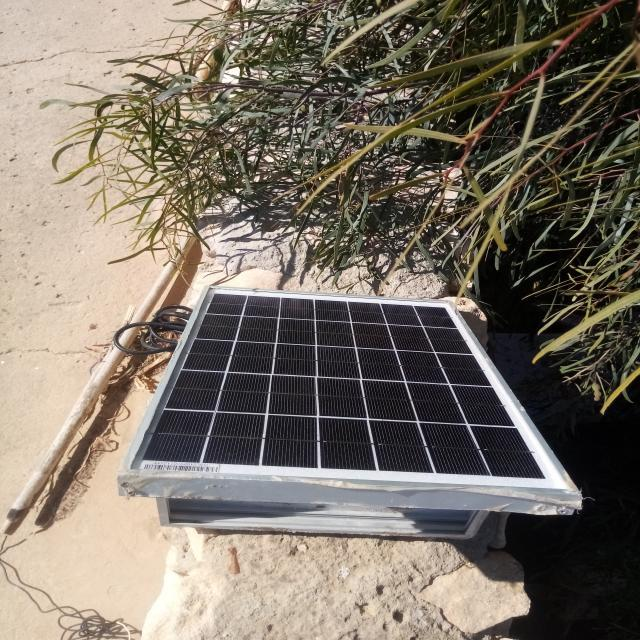no faulty: (123, 287, 577, 492)
